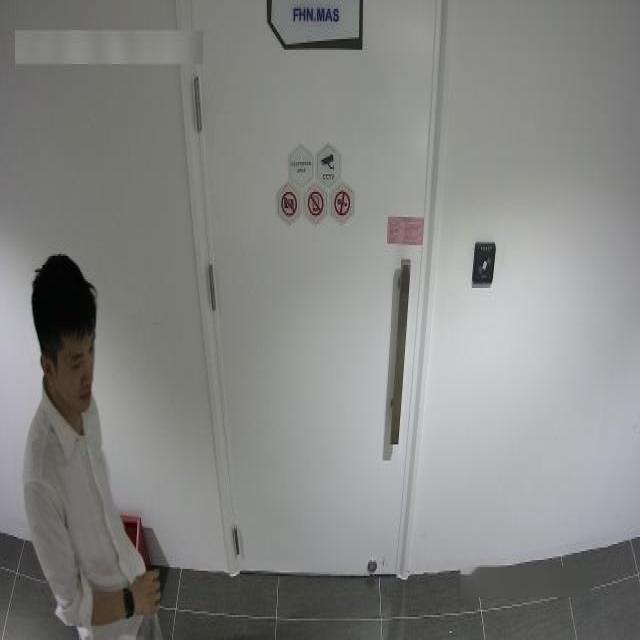bare_hand: (126, 567, 168, 626)
